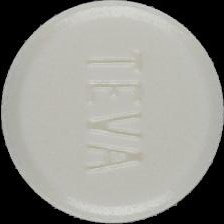0615-1569: (0, 0, 224, 224)
